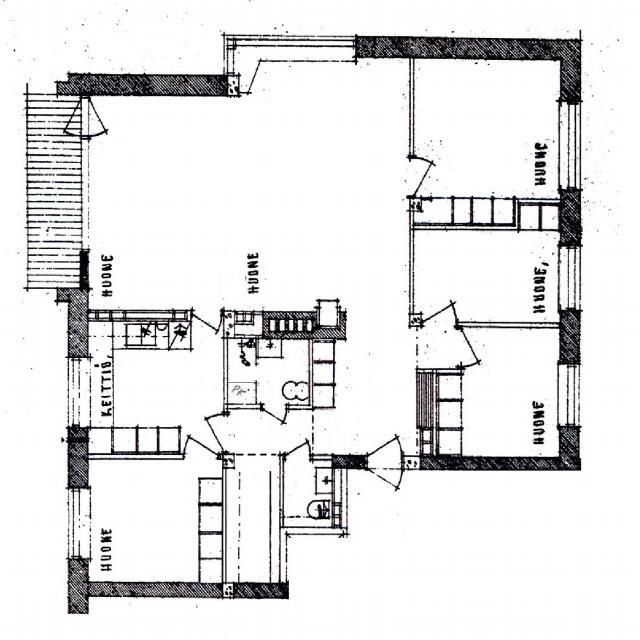door: (367, 416, 402, 468), (367, 454, 402, 506), (45, 98, 89, 135), (80, 98, 123, 135), (184, 454, 217, 494), (262, 404, 287, 435), (286, 427, 310, 459)
